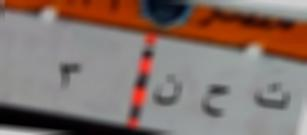3: (56, 56, 82, 94)
7aa: (200, 78, 232, 124)
noon: (150, 70, 186, 111)
taa: (250, 75, 292, 118)
